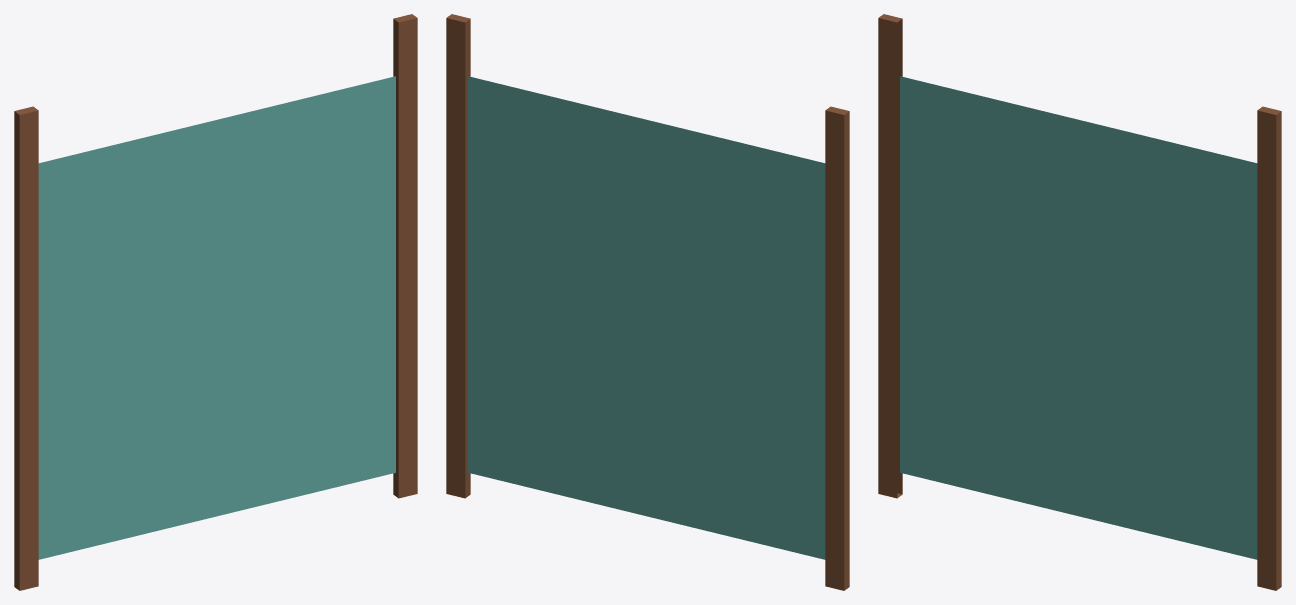
The model's file is Gate.fbx.
The picture shows the model from 3 angles, left to right: view 1: azimuth 30°, elevation 25°; view 2: azimuth 150°, elevation 25°; view 3: azimuth 330°, elevation 25°; orthographic projection.
Visible parts, largest first — view 1: poles1; view 2: poles1; view 3: poles1.
Boxes of the visible parts, box(x1,y1,x2,y2) form: poles1: box(14, 14, 417, 590); poles1: box(446, 14, 849, 590); poles1: box(878, 14, 1281, 590).
Size of the model in its own units: 1260 by 1440 by 30.
